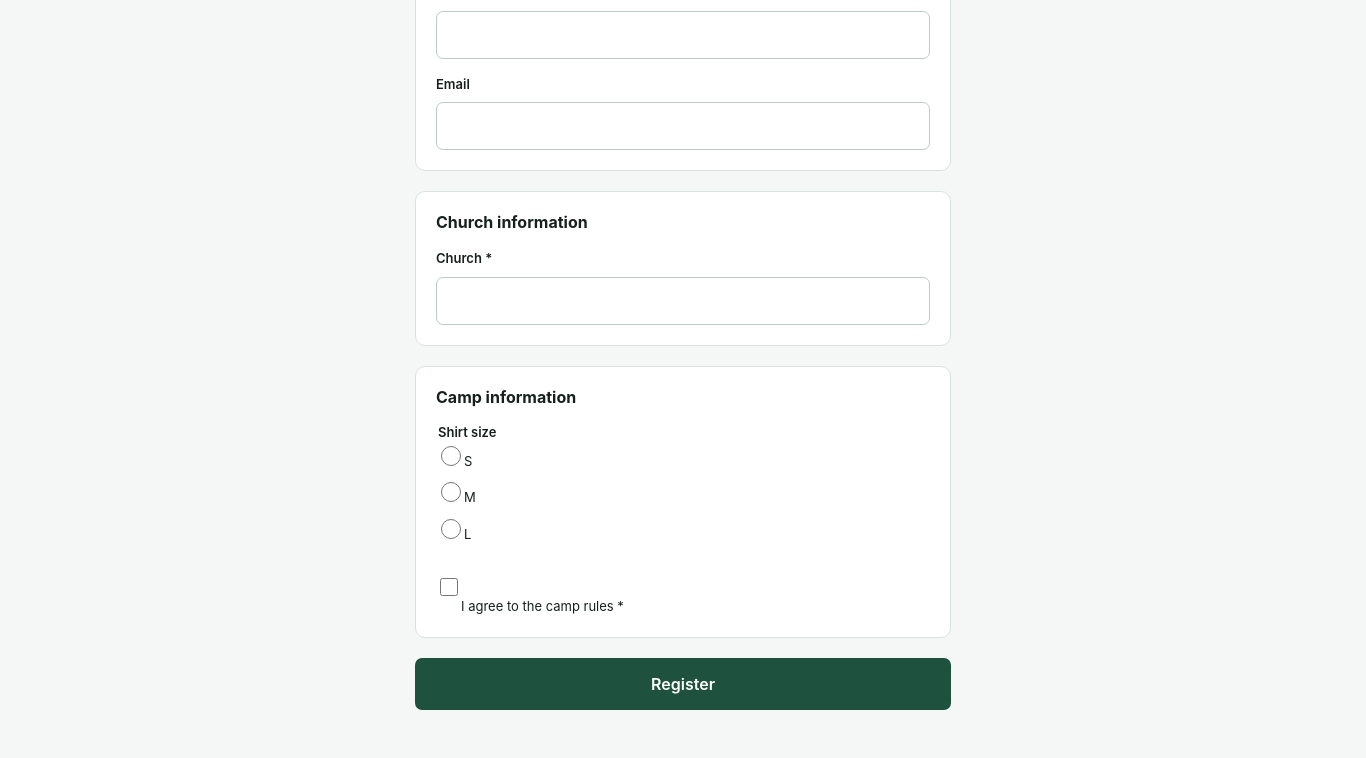
Scenario: public registration page › names each missing required answer before anything is sent
(page scrolled)
Step 1. Click the button "Register" → [683, 684], box [415,658,951,710]
(page scrolled)
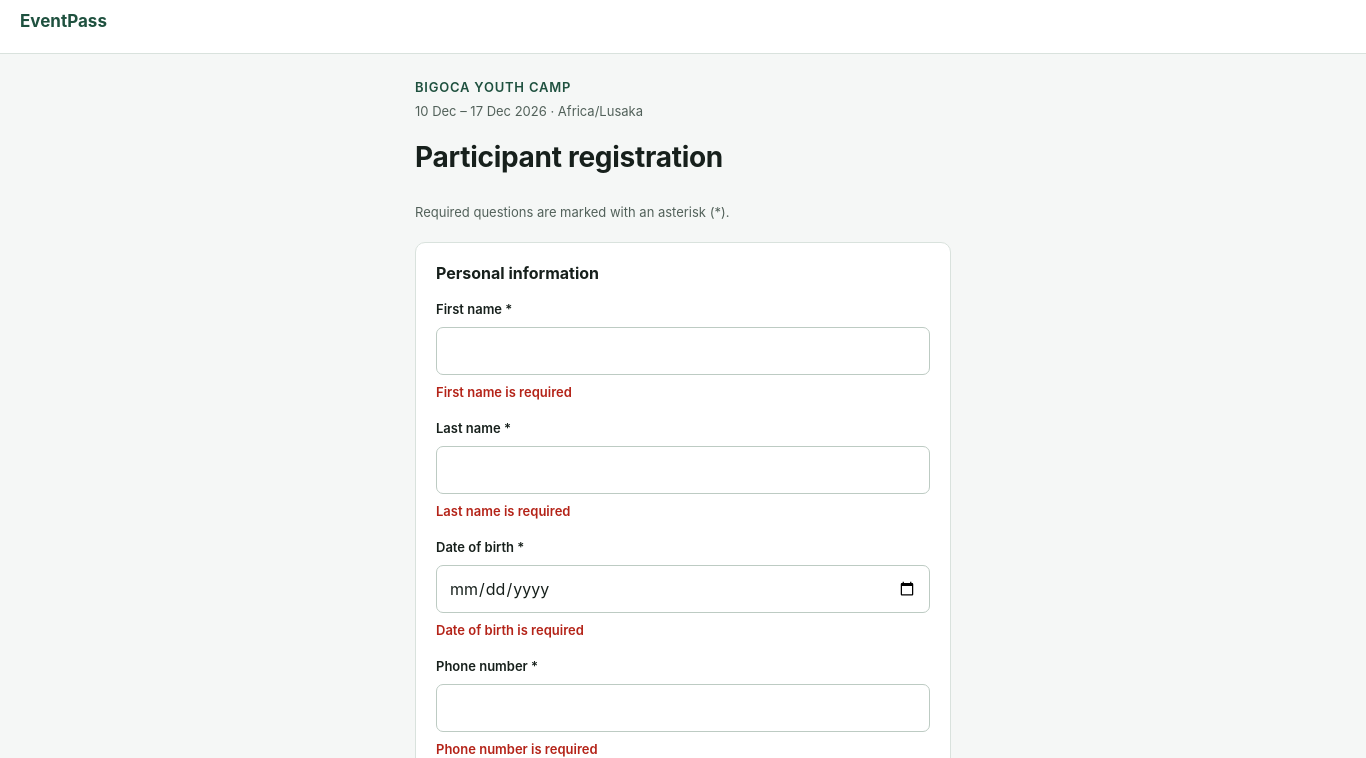
Expected: the text "First name is required" is shown, [436,384,572,400]
